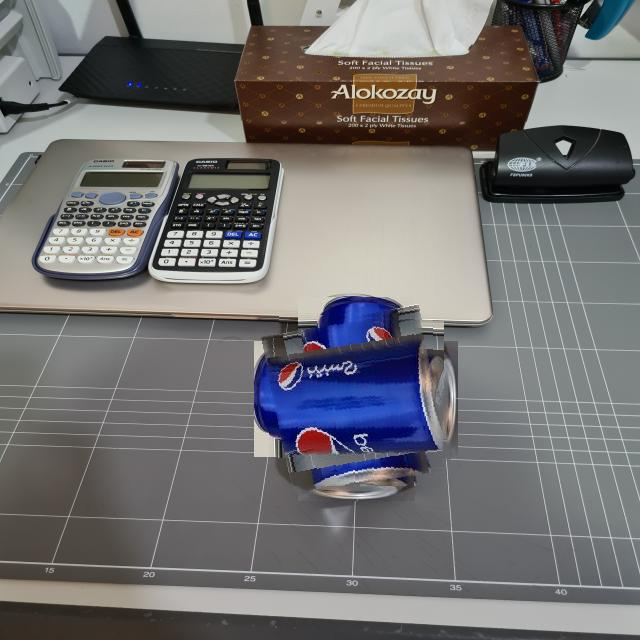recyclable: (269, 312, 444, 486)
